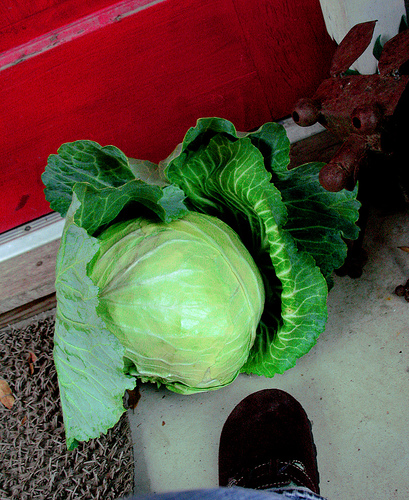cabbage: (38, 112, 361, 447)
